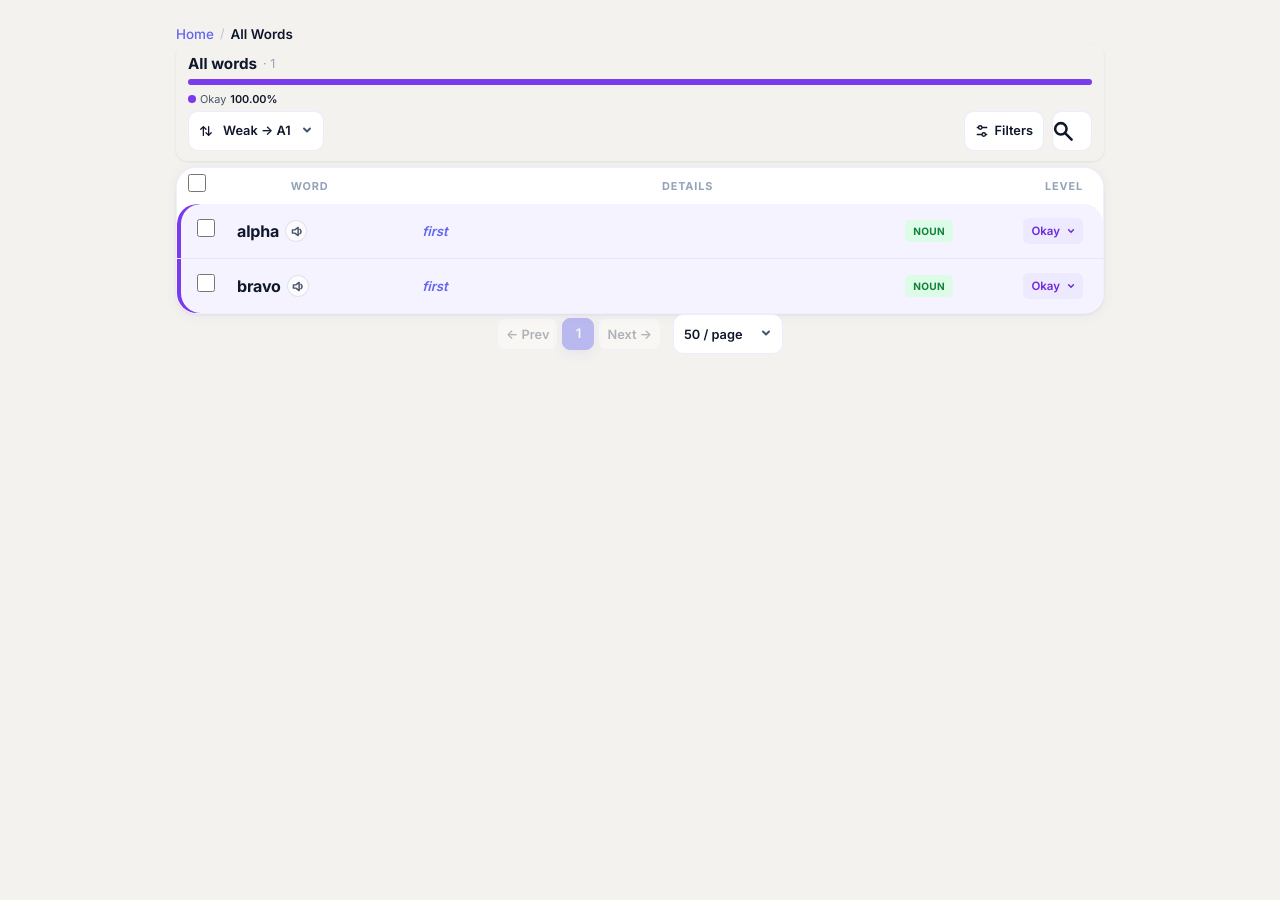
it: keeps selected words when another word rating changes
Step 1. Click the checkbox named "Select alpha" → (206, 228), box x1=197 y1=219 x2=215 y2=237
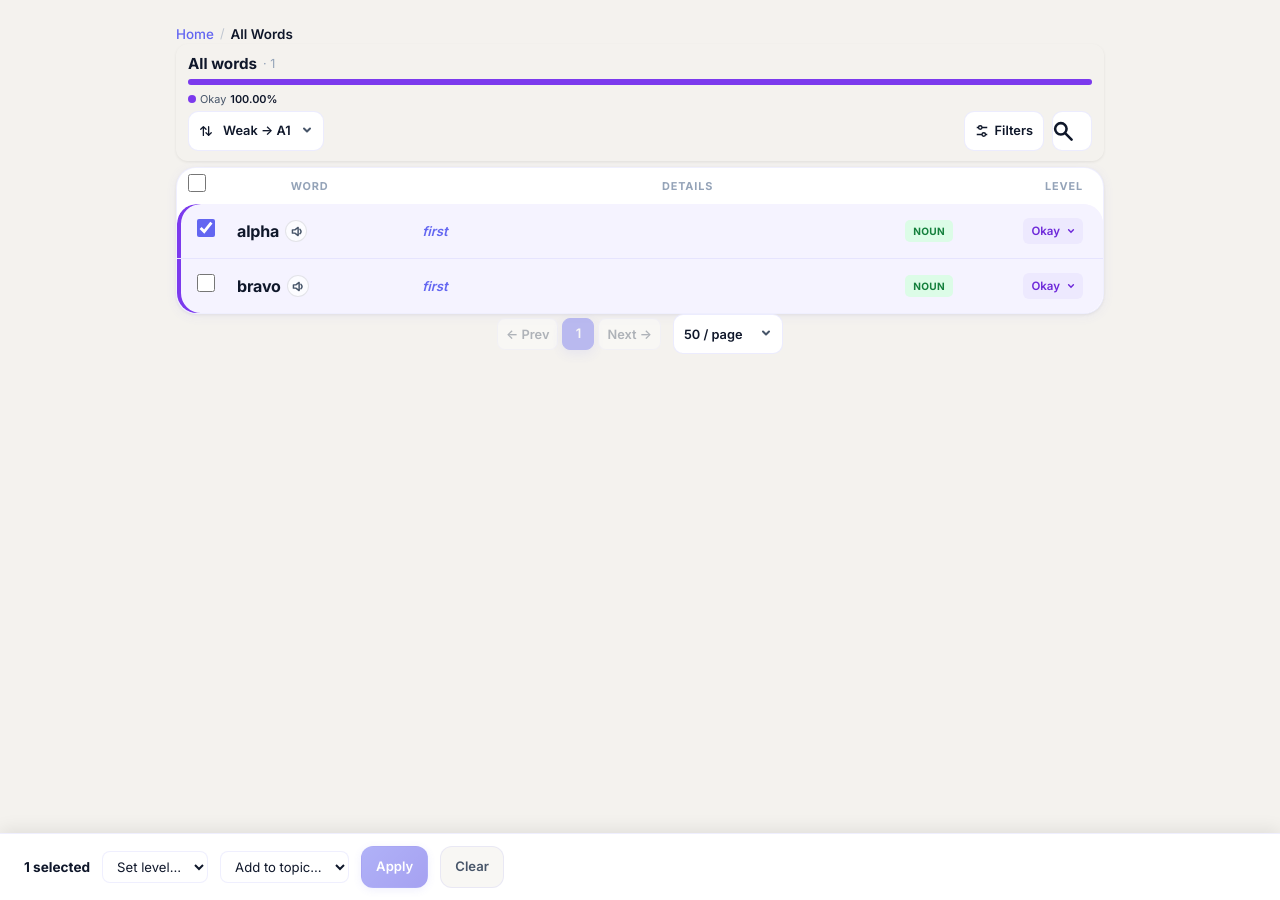
Step 2. Click the button "Okay" in the row of "bravo" → (1053, 286), box x1=1023 y1=273 x2=1083 y2=299
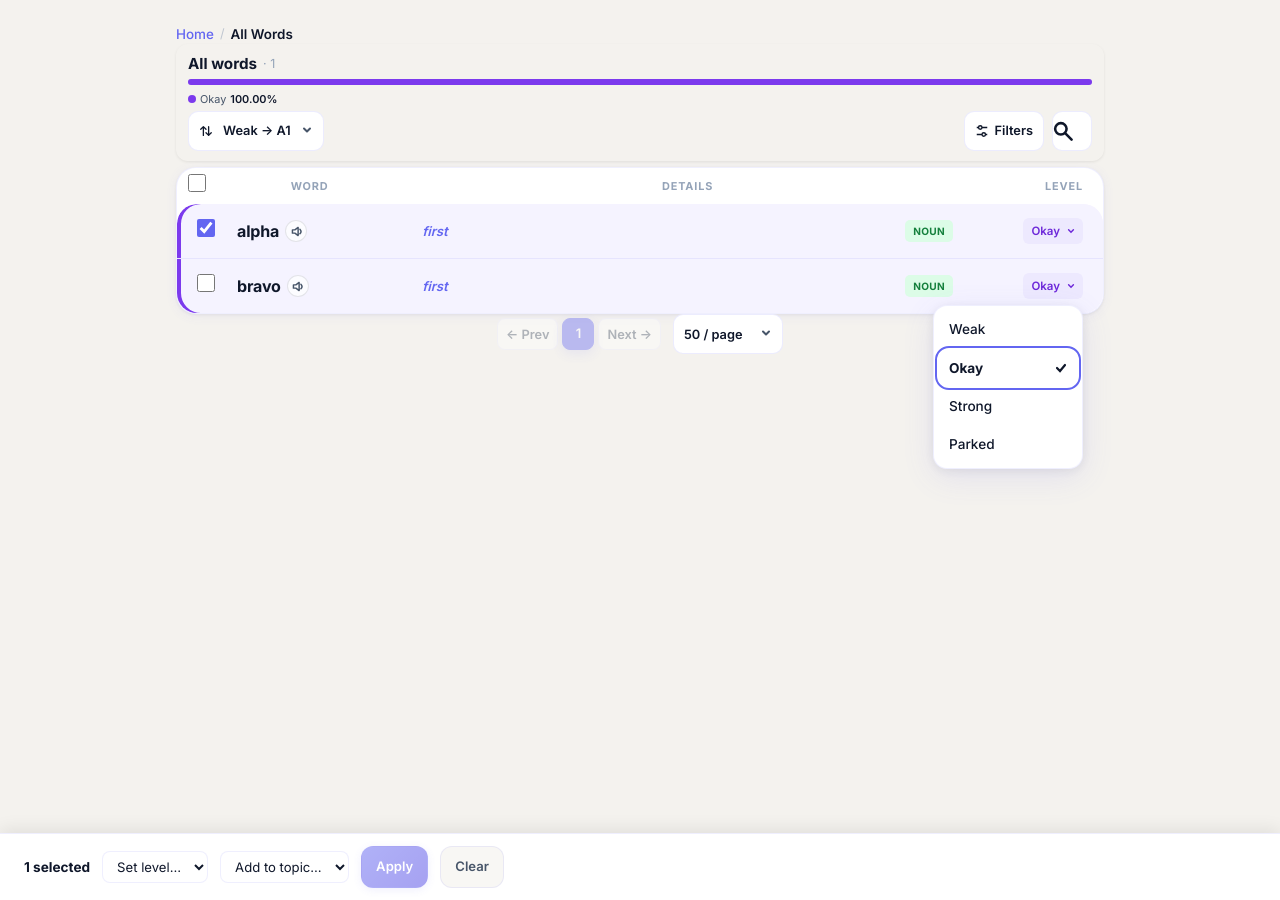
Step 3. Click the button "Strong" → (1008, 406), box x1=939 y1=388 x2=1077 y2=424
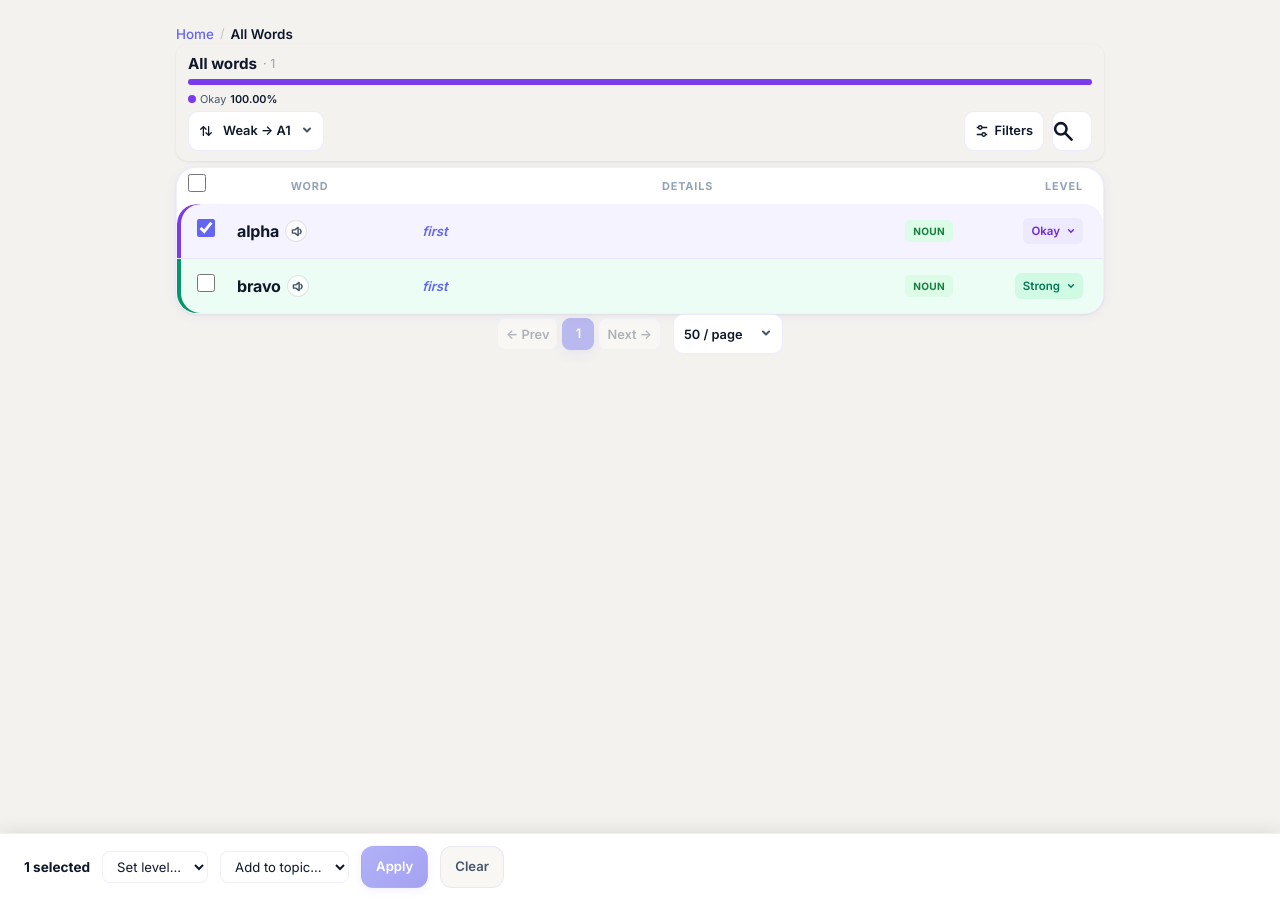
expect the checkbox named "Select alpha" is checked: met, box x1=197 y1=219 x2=215 y2=237
expect the text "1 selected" is shown: met, box x1=24 y1=857 x2=90 y2=877
expect the button "Strong" is shown: met, box x1=1015 y1=273 x2=1083 y2=299
